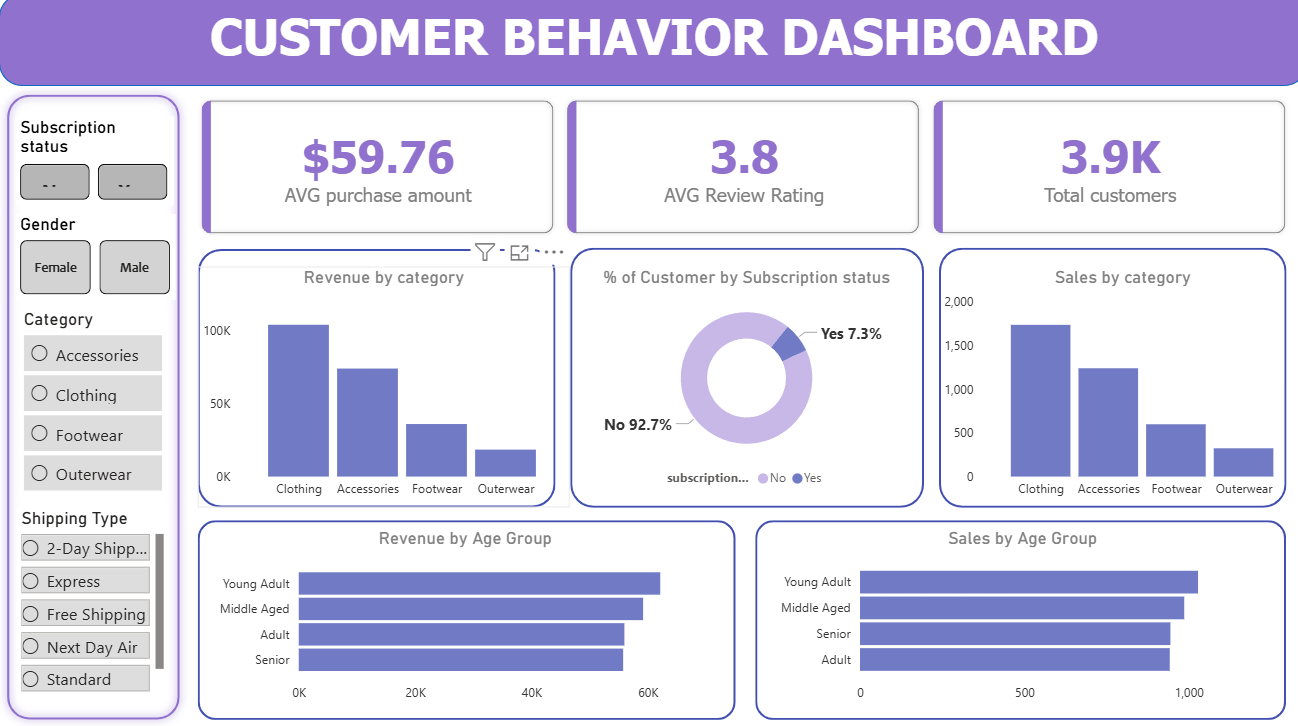

This screenshot's page, from the dashboard's own definition file:
{"tool":"powerbi","page":{"name":"Page 1","canvas":[1280,720],"ordinal":0},"visuals":[{"type":"shape","box":[0,0,1280,90],"z":0},{"type":"cardVisual","fields":{"Data":["customer_trends customers.AVG purchase amount","customer_trends customers.AVG Review Rating","customer_trends customers.Total customers"]},"box":[175.7,81.4,1104.3,174.3],"z":1000},{"type":"textbox","box":[175.7,7.1,930,74.3],"z":2000},{"type":"shape","box":[0,90.5,184.6,627.3],"z":3000},{"type":"shape","box":[194.3,250,350,252.9],"z":4000},{"type":"donutChart","title":"% of Customer by Subscription status","fields":{"Category":["customer_trends customers.subscription_status"],"Y":["Sum(customer_trends customers.customer_id)"]},"box":[560,267.1,342.9,225.7],"z":5000},{"type":"clusteredColumnChart","title":"Revenue by category","fields":{"Category":["customer_trends customers.category"],"Y":["Sum(customer_trends customers.purchase_amount)"]},"box":[194.3,267.1,364.3,235.7],"z":6000},{"type":"shape","box":[558.8,248.2,346.1,254.3],"z":7000},{"type":"clusteredColumnChart","title":"Sales by category","fields":{"Category":["customer_trends customers.category"],"Y":["CountNonNull(customer_trends customers.customer_id)"]},"box":[920,267.1,360,235.7],"z":8000},{"type":"shape","box":[919.6,248.2,339.9,254.3],"z":9000},{"type":"advancedSlicerVisual","fields":{"Values":["customer_trends customers.subscription_status"]},"box":[15.9,119.8,155.3,86.8],"z":10000},{"type":"advancedSlicerVisual","fields":{"Values":["customer_trends customers.gender"]},"box":[15.9,215.2,156.5,84.4],"z":11000},{"type":"listSlicer","fields":{"Values":["customer_trends customers.category"]},"box":[19.6,308.2,145.5,184.6],"z":12000},{"type":"listSlicer","fields":{"Values":["customer_trends customers.shipping_type"]},"box":[17.1,502.6,149.2,187.1],"z":13000},{"type":"shape","box":[194.3,514.8,526.1,195.5],"z":15000},{"type":"shape","box":[739.8,514.8,519.3,195.5],"z":16000},{"type":"clusteredBarChart","title":"Revenue by Age Group","fields":{"Y":["Sum(customer_trends customers.purchase_amount)"],"Category":["customer_trends customers.age_group"]},"box":[205.4,522.1,501.4,179.8],"z":16001},{"type":"clusteredBarChart","title":"Salby Age Group","fields":{"Y":["CountNonNull(customer_trends customers.purchase_amount)"],"Category":["customer_trends customers.age_group"]},"box":[754.5,522.1,494,179.8],"z":16002}]}

Visuals, with their boxes in screenshot pixels (x1, y1, x2, y2), scaled from the page's 1280x720 canvas onto the 1298x726 screenshot:
shape: {"x1": 0, "y1": 0, "x2": 1297, "y2": 91}
cardVisual - customer_trends customers.AVG purchase amount x customer_trends customers.AVG Review Rating: {"x1": 178, "y1": 82, "x2": 1297, "y2": 258}
textbox: {"x1": 178, "y1": 7, "x2": 1121, "y2": 82}
shape: {"x1": 0, "y1": 91, "x2": 187, "y2": 724}
shape: {"x1": 197, "y1": 252, "x2": 552, "y2": 507}
"% of Customer by Subscription status" donutChart: {"x1": 568, "y1": 269, "x2": 916, "y2": 497}
"Revenue by category" clusteredColumnChart: {"x1": 197, "y1": 269, "x2": 566, "y2": 507}
shape: {"x1": 567, "y1": 250, "x2": 918, "y2": 507}
"Sales by category" clusteredColumnChart: {"x1": 933, "y1": 269, "x2": 1297, "y2": 507}
shape: {"x1": 933, "y1": 250, "x2": 1277, "y2": 507}
advancedSlicerVisual - customer_trends customers.subscription_status: {"x1": 16, "y1": 121, "x2": 174, "y2": 208}
advancedSlicerVisual - customer_trends customers.gender: {"x1": 16, "y1": 217, "x2": 175, "y2": 302}
listSlicer - customer_trends customers.category: {"x1": 20, "y1": 311, "x2": 167, "y2": 497}
listSlicer - customer_trends customers.shipping_type: {"x1": 17, "y1": 507, "x2": 169, "y2": 695}
shape: {"x1": 197, "y1": 519, "x2": 731, "y2": 716}
shape: {"x1": 750, "y1": 519, "x2": 1277, "y2": 716}
"Revenue by Age Group" clusteredBarChart: {"x1": 208, "y1": 526, "x2": 717, "y2": 708}
"Salby Age Group" clusteredBarChart: {"x1": 765, "y1": 526, "x2": 1266, "y2": 708}
